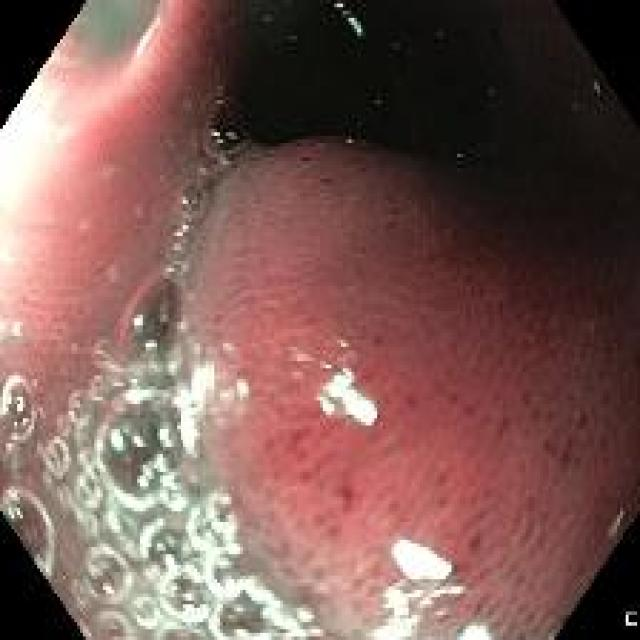bubbles: (43, 335, 217, 634), (117, 265, 186, 367), (212, 578, 314, 636), (2, 488, 60, 585), (202, 95, 256, 164), (142, 527, 197, 587), (159, 559, 212, 620), (177, 156, 221, 228), (190, 494, 239, 551), (2, 374, 39, 445), (205, 542, 248, 601), (162, 214, 196, 268), (9, 319, 32, 354)
contrast: (203, 3, 638, 264)
saturation: (2, 80, 61, 228)
specularity: (98, 384, 196, 517), (5, 485, 58, 578), (315, 359, 376, 430), (390, 534, 455, 591), (368, 578, 422, 638), (2, 368, 37, 448), (172, 386, 203, 459), (186, 360, 217, 414), (408, 583, 465, 610), (134, 455, 178, 489), (219, 374, 252, 409), (334, 3, 364, 41), (133, 20, 161, 59), (111, 481, 146, 512), (456, 620, 492, 639), (123, 386, 154, 405), (107, 427, 128, 454), (166, 493, 186, 515), (609, 506, 623, 534), (131, 312, 144, 330), (144, 338, 158, 353), (101, 582, 114, 597), (133, 433, 144, 449)
